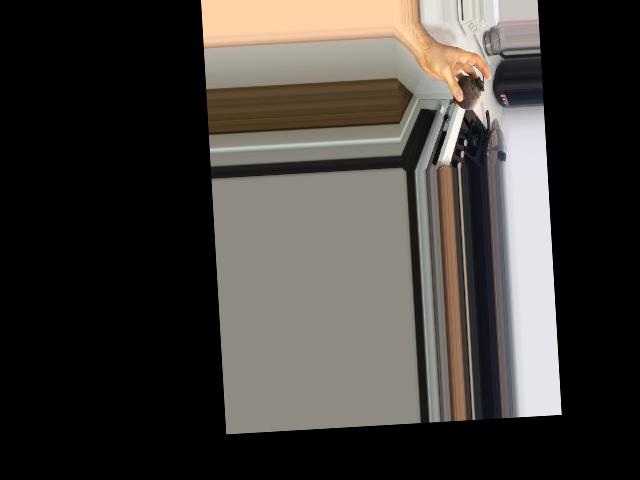beet: (445, 65, 485, 111)
